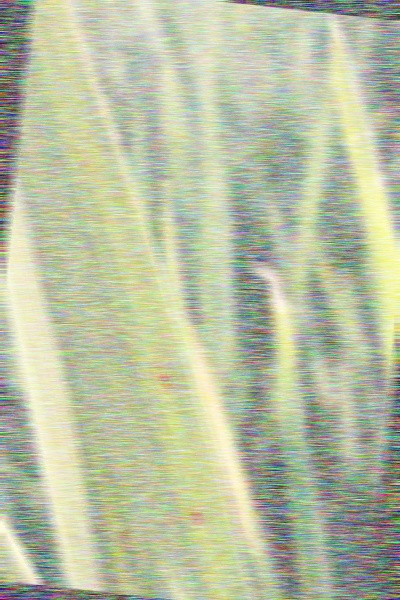Bacterial_Leaf_Blight: (151, 351, 179, 396), (74, 143, 99, 179), (180, 501, 207, 528)
